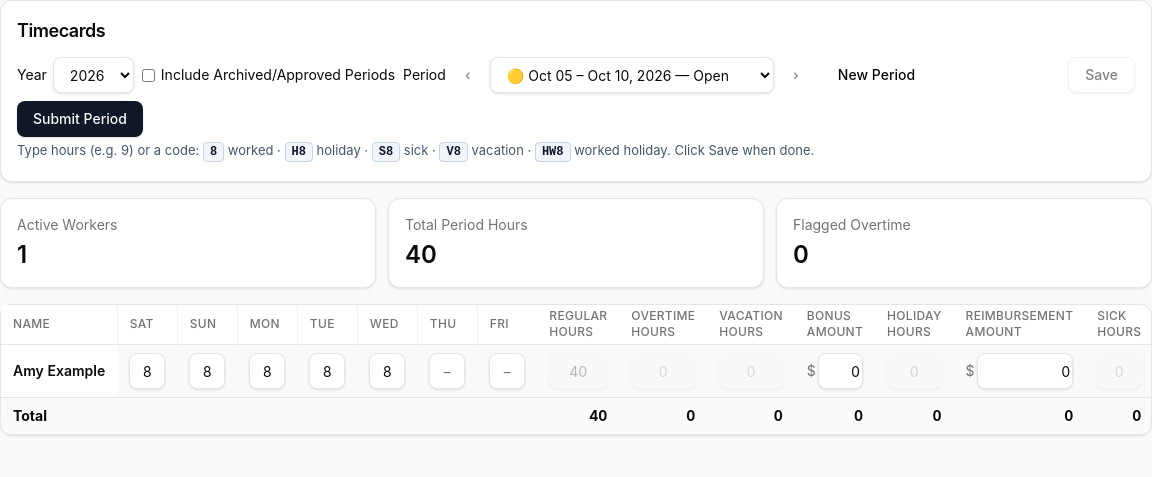
Test: TimecardPage (Stage A) › click + Enter updates the cell and recomputes Reg
The image size is (1152, 477).
Check: the text "Amy Example" is shown, box [1,344,117,398]
Step 1. Replace the text in the field named "day-1-2026-10-05" with "V8" → (147, 371), box [129,353,165,389]
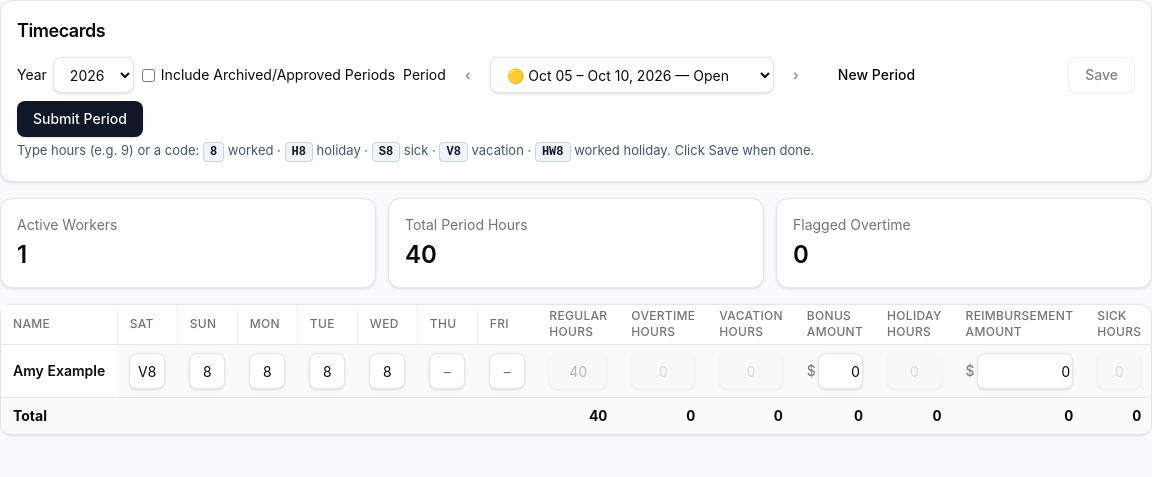
Step 2. Press Enter in the field named "day-1-2026-10-05", box [129,353,165,389]
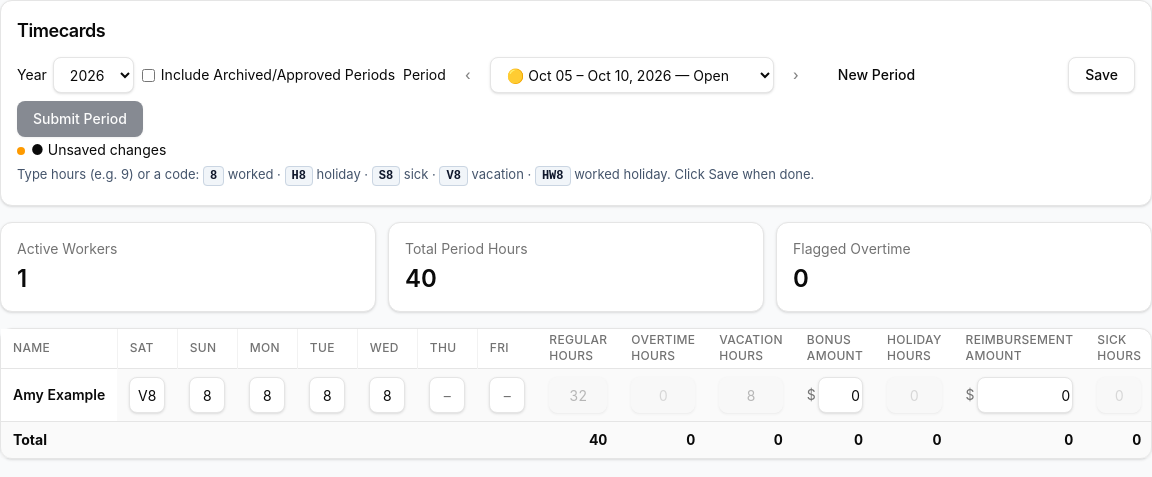
Check: the text "● Unsaved changes" is shown, box [17,141,166,158]
